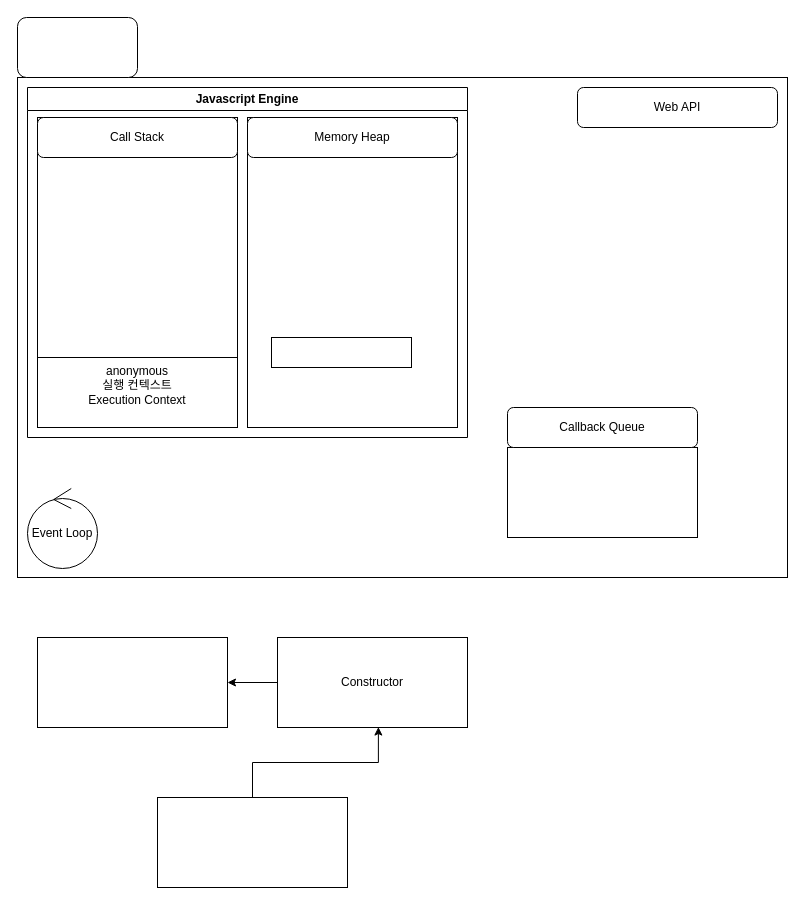
The diagram is 805 pixels wide and 905 high, and some of its shapes have lost their labels. The box of each missing label's shape, as (x1, y1, x2, y2) in pixels:
Class: (36, 636, 228, 728)
JS Runtime: (16, 16, 138, 78)
new Obj: (270, 336, 412, 368)
Object: (156, 796, 348, 888)
